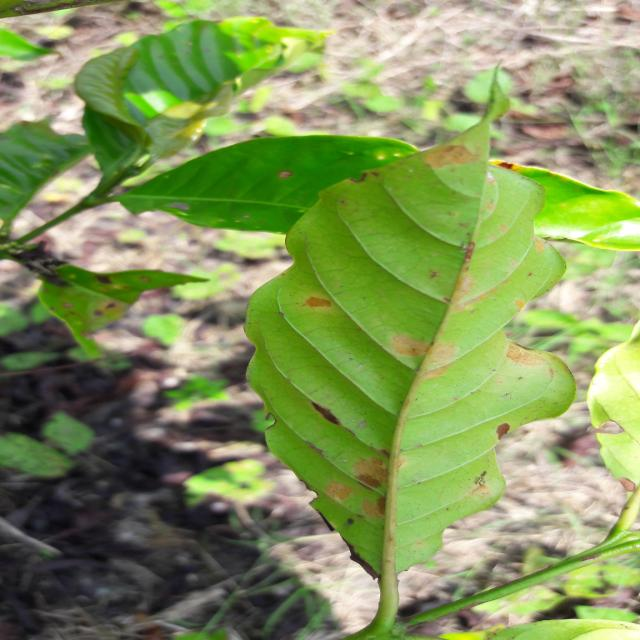Enfermedad-Roya: (247, 77, 637, 626)
